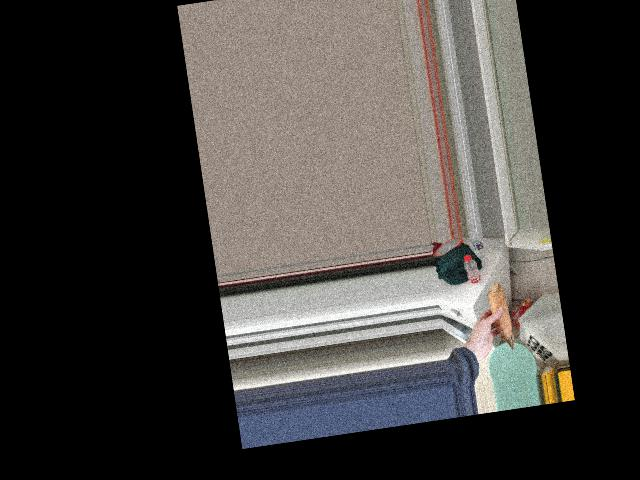sweet_potato: (484, 279, 512, 348)
